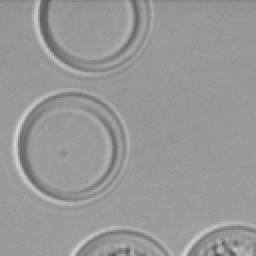picoshell: (12, 90, 128, 204), (32, 0, 152, 76), (70, 226, 170, 254), (180, 222, 254, 254)
